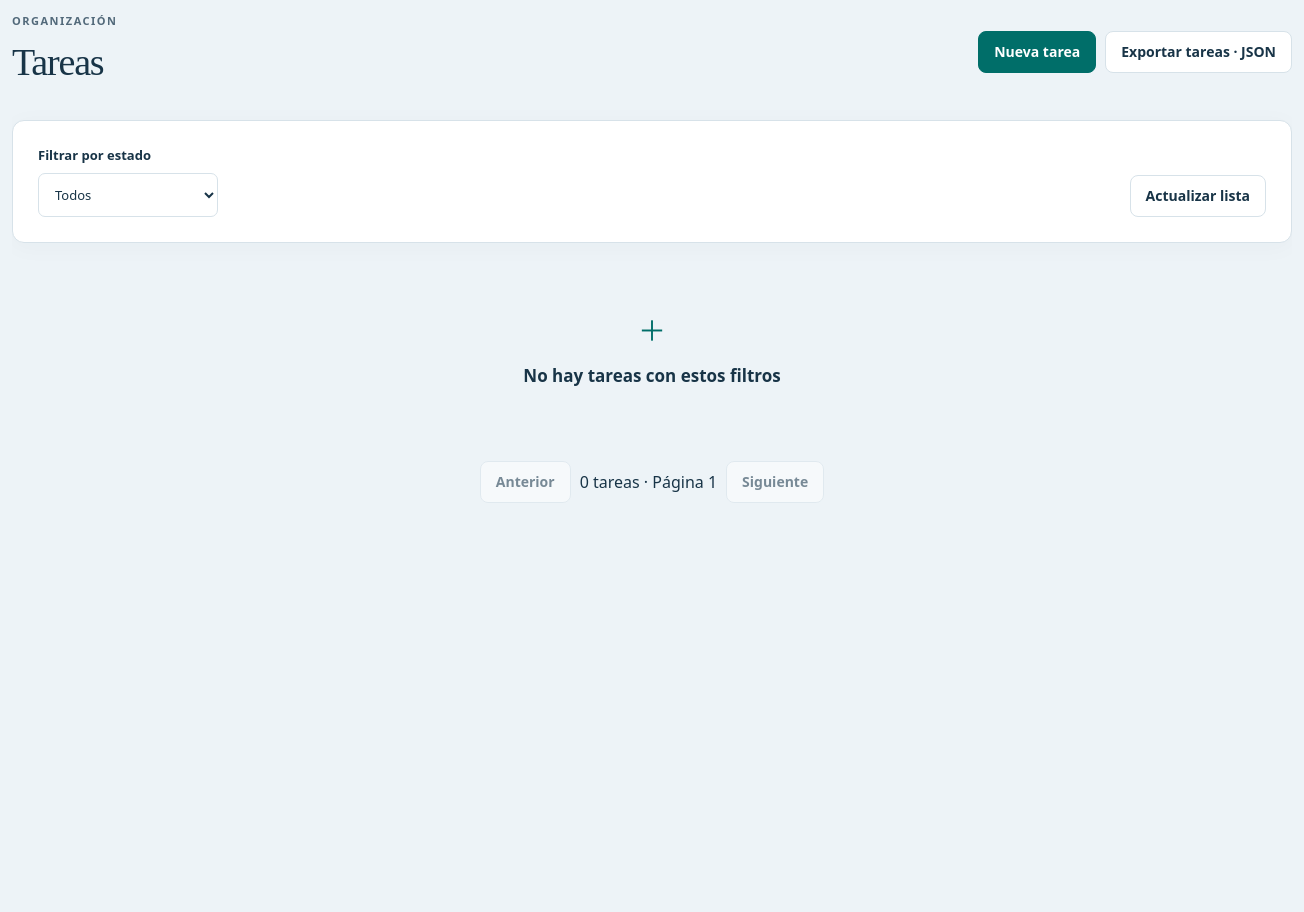
Test: Tareas V0.1 › lee sin escribir, crea con vencimiento nulo y relaciones, y cancela sin guardar
Expected: the heading "No hay tareas con estos filtros" is shown, [523, 364, 781, 387]
Step 1. Click the button "Nueva tarea" → click(1037, 52), box [978, 31, 1096, 73]
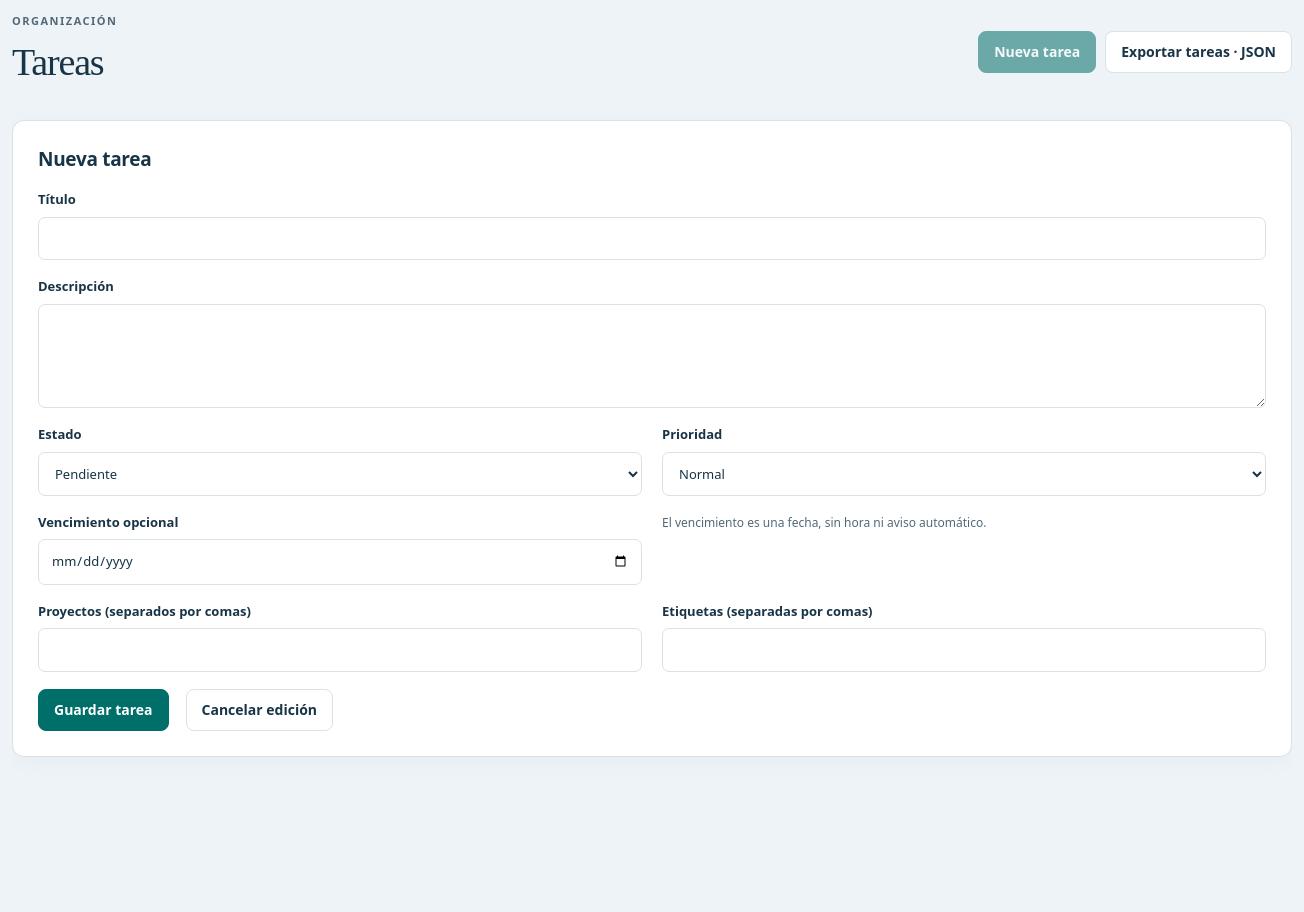
Step 2. Type "Descartar" into the field labelled "Título" → (652, 238), box [38, 217, 1266, 260]
Step 3. Click the button "Cancelar edición" → click(259, 710), box [186, 689, 333, 731]
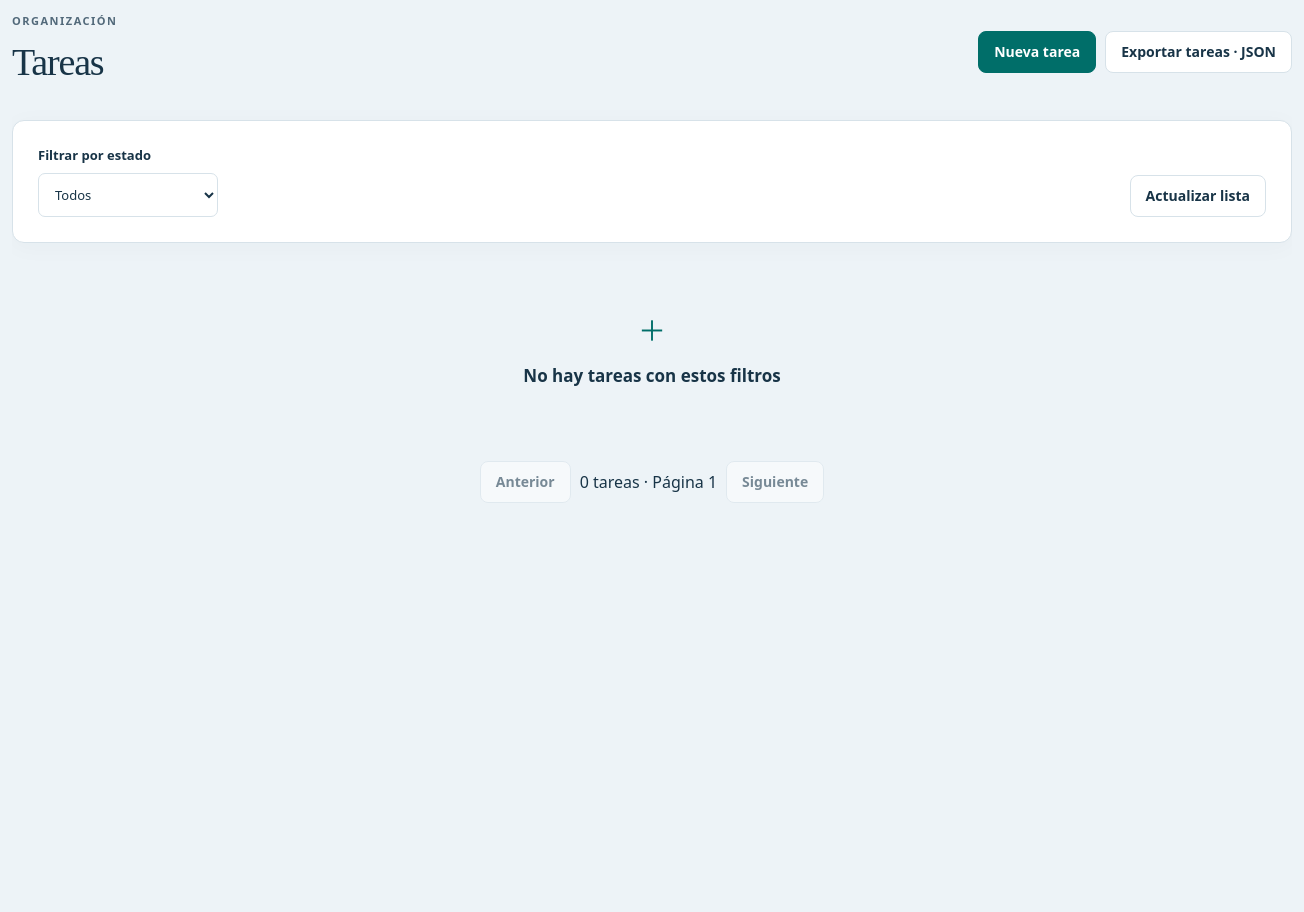
Step 4. Click the button "Nueva tarea" → click(1037, 52), box [978, 31, 1096, 73]
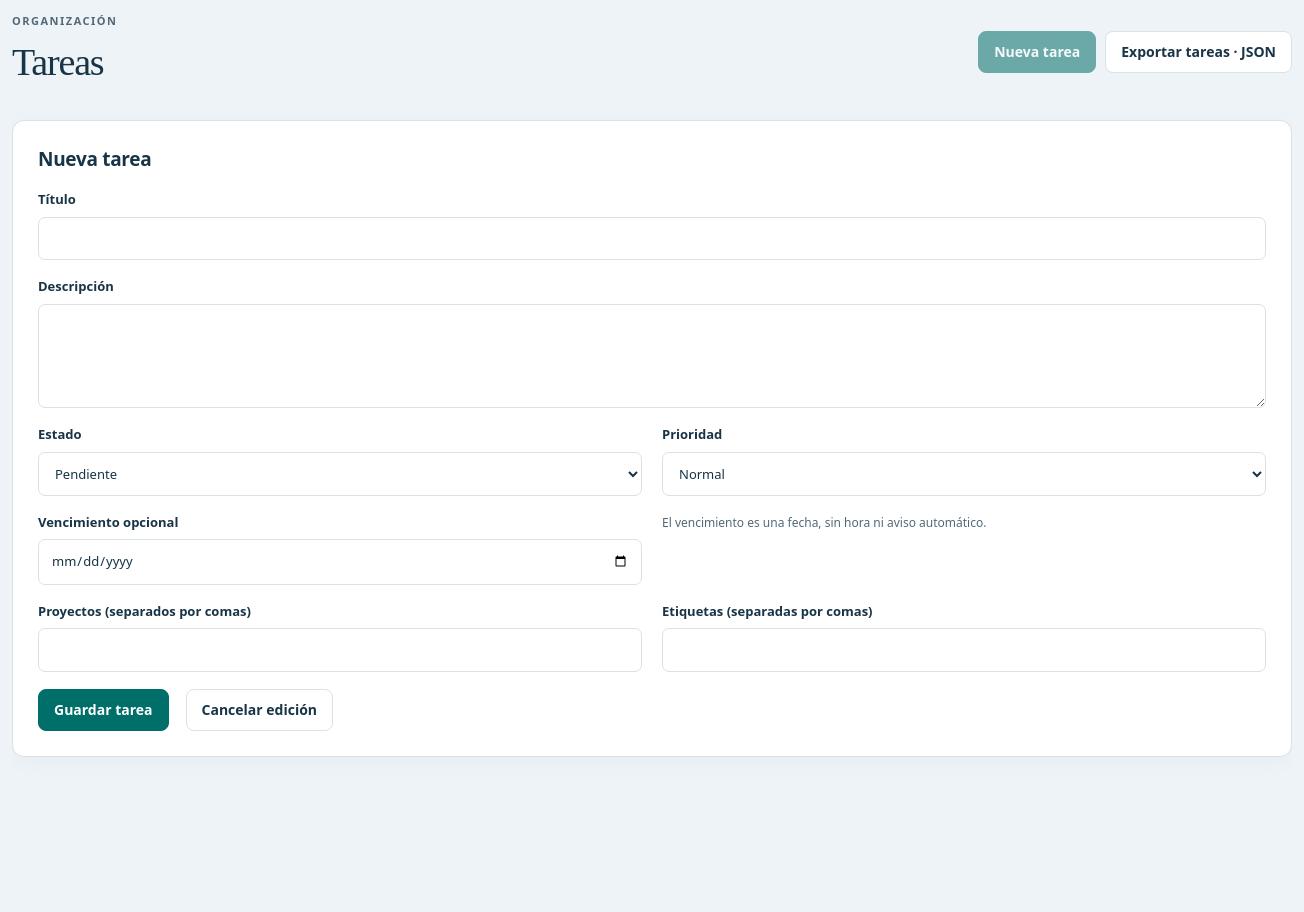
Now the field labelled "Título" is empty
Step 5. Type "Nueva sintética" into the field labelled "Título" → (652, 238), box [38, 217, 1266, 260]
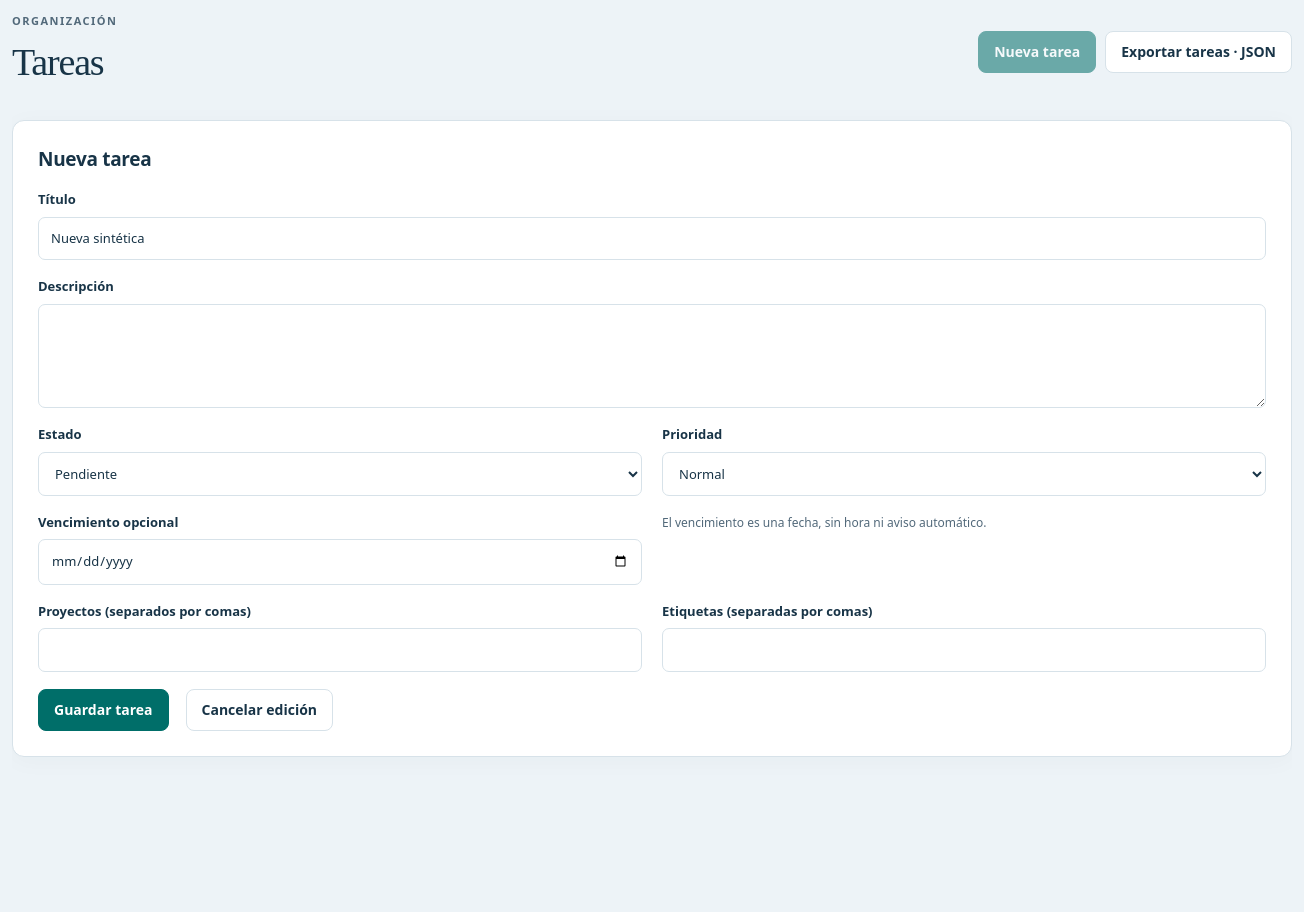
Step 6. Type " Proyecto A, Proyecto B " into the field labelled "Proyectos (separados por comas)" → (340, 650), box [38, 628, 642, 672]
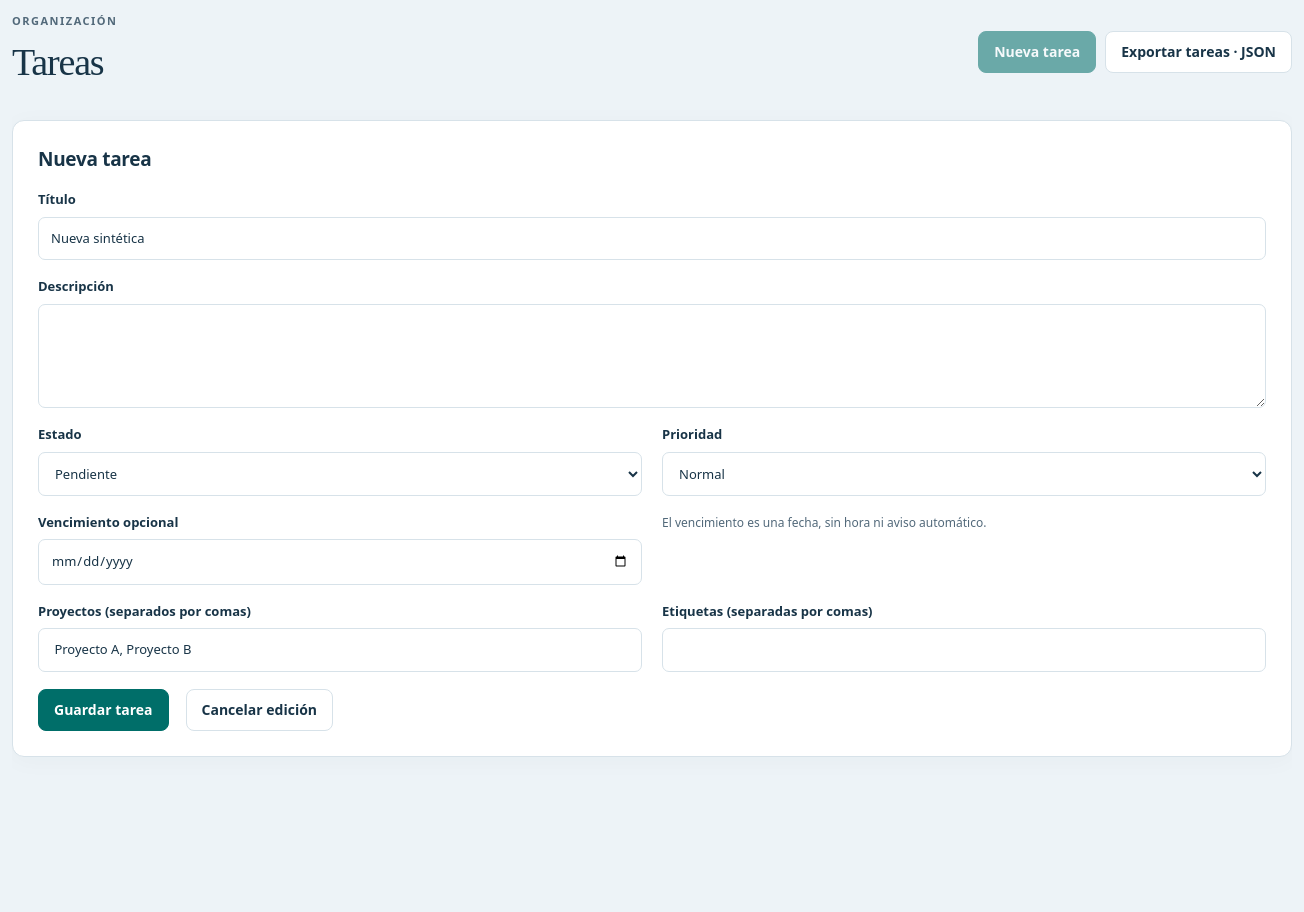
Step 7. Click the button "Guardar tarea" → click(103, 710), box [38, 689, 168, 731]
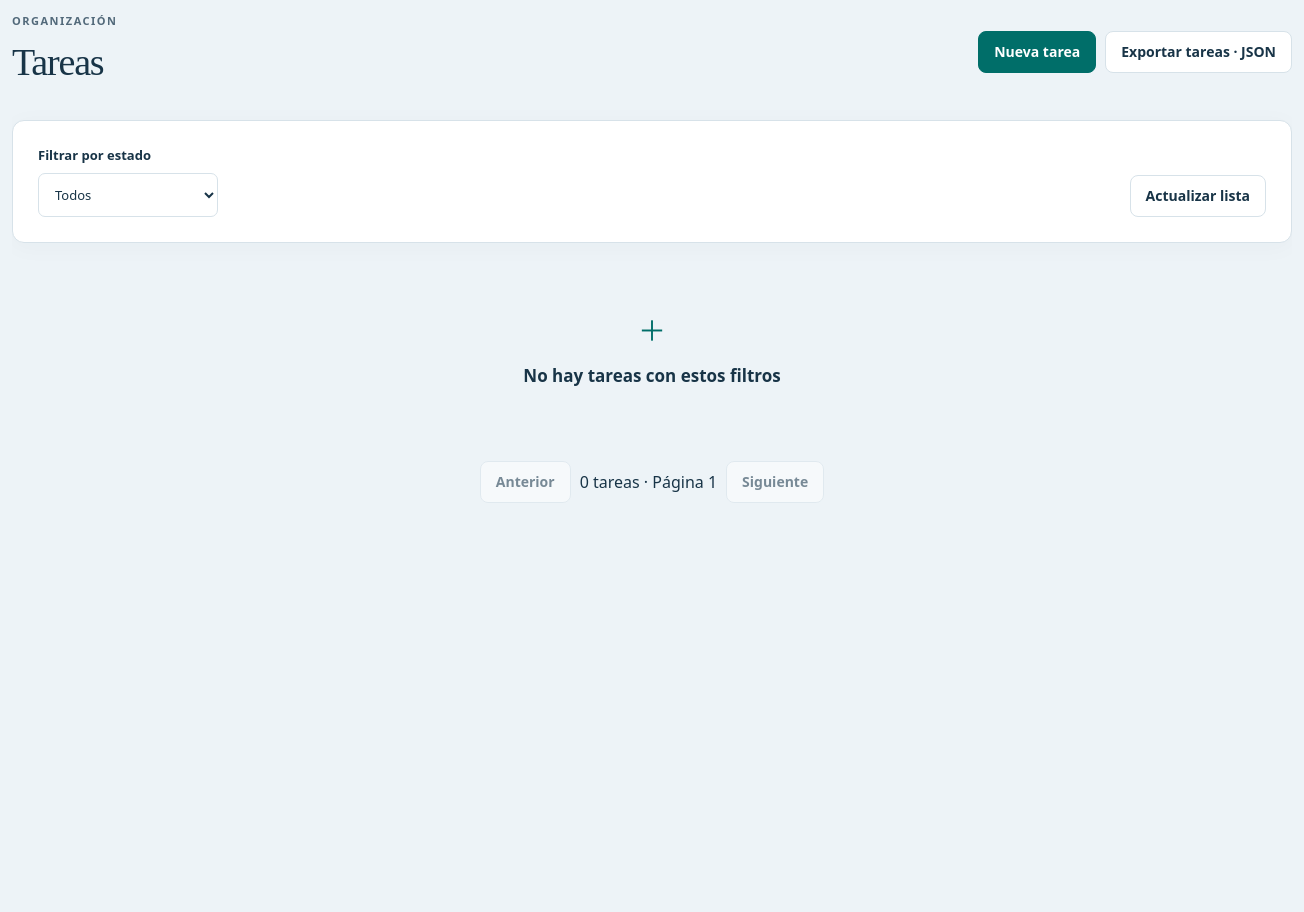
Now the heading "No hay tareas con estos filtros" is shown, box [523, 364, 781, 387]
